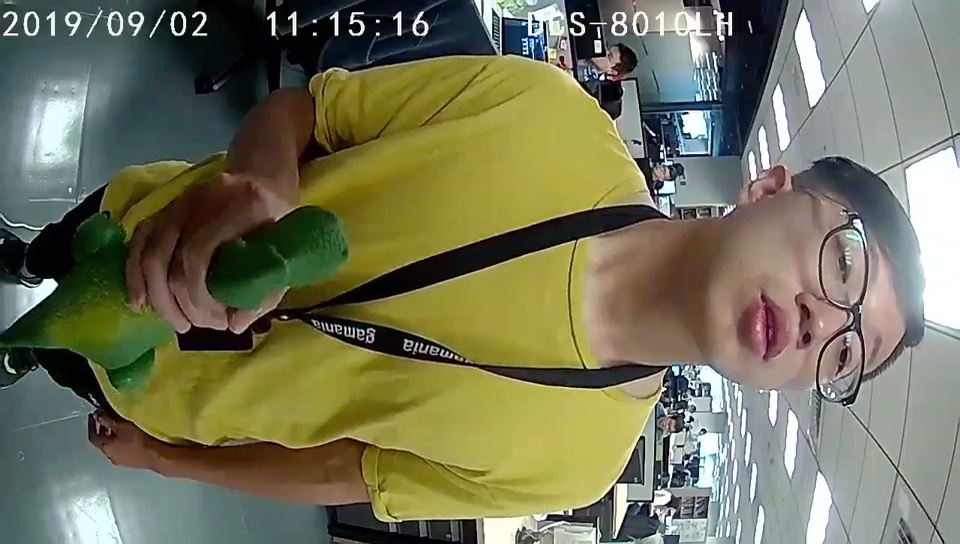rex: (71, 207, 352, 389)
